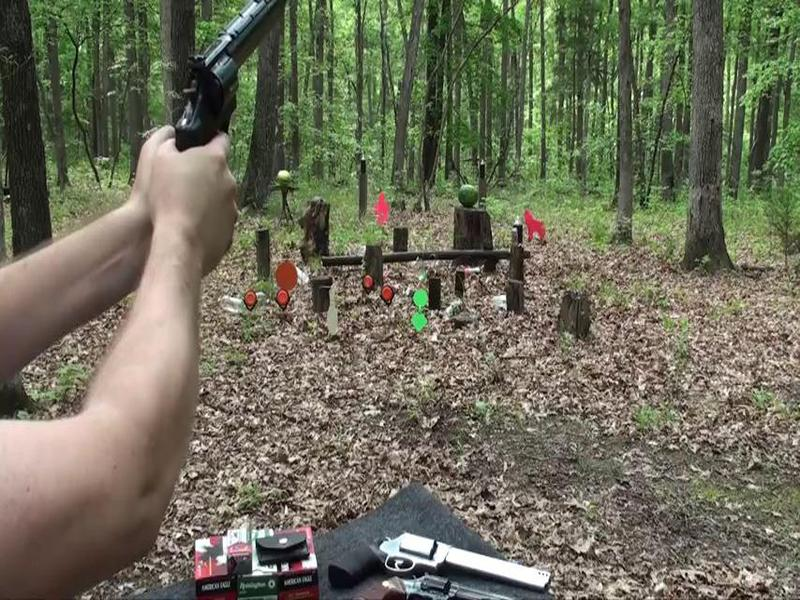Revolver: (152, 1, 312, 149)
